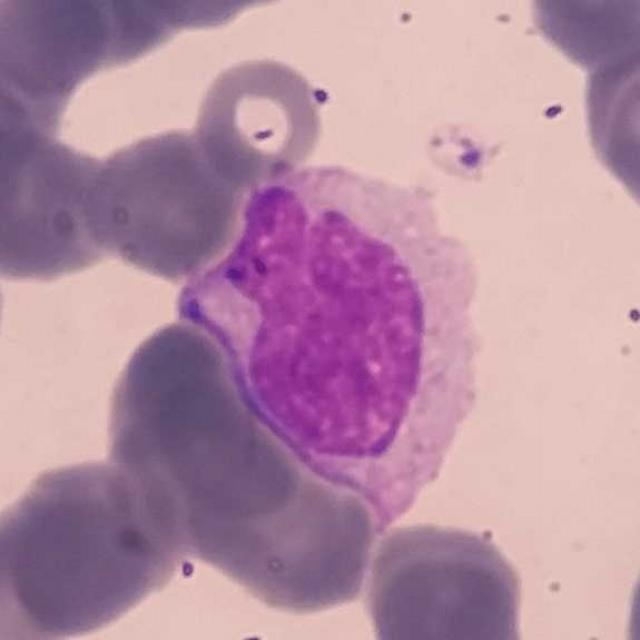Monocyte: (196, 154, 493, 530)
Platelets: (423, 122, 496, 182), (535, 96, 572, 126)
RBC: (102, 314, 315, 532), (177, 438, 381, 618), (1, 454, 186, 640), (82, 124, 250, 282), (359, 516, 531, 640), (0, 121, 117, 287), (189, 51, 331, 183), (27, 0, 198, 75), (0, 504, 89, 640), (0, 0, 114, 97), (366, 586, 540, 640), (589, 48, 640, 225), (520, 0, 640, 72), (112, 0, 308, 35), (0, 60, 38, 212)
